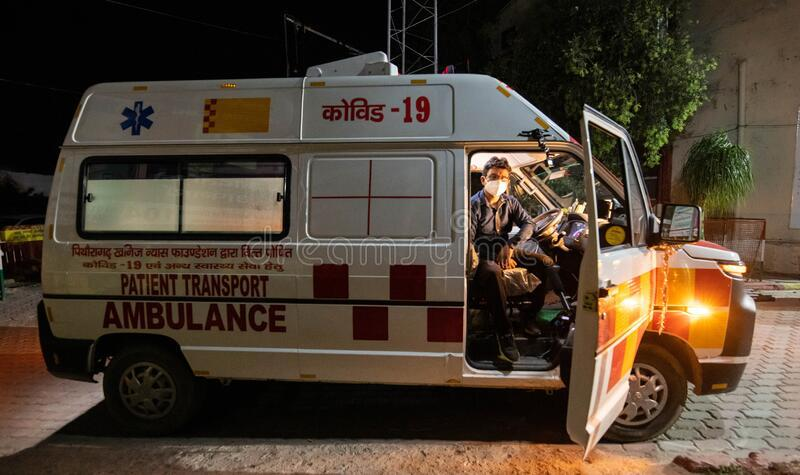Emergency-Vehicles: (32, 32, 794, 457)
